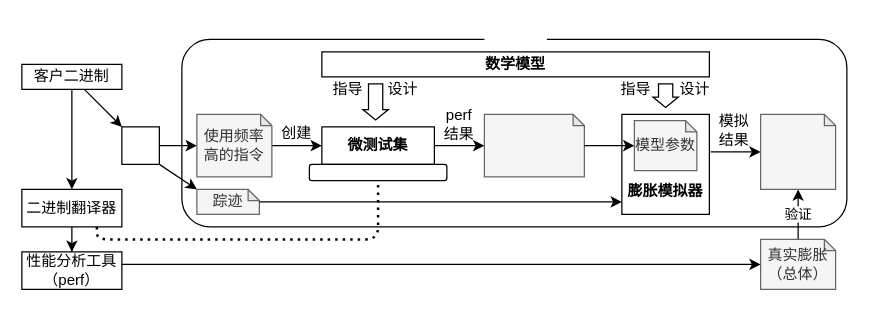
The diagram is 869 pixels wide and 311 high, and some of its shapes have lost their labels. Each missing label, with the centre of its shape:
"各类指令/指令变种的膨胀" belongs at point 533,145.
"插桩工具" belongs at point 140,145.
"析胀" belongs at point 515,35.
"模拟膨胀 （详细）" belongs at point 797,151.
"运行在翻译器上" belongs at point 377,172.
